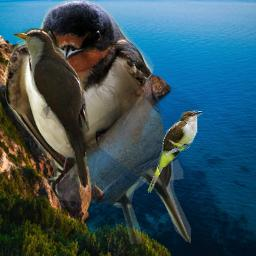Cuckoo: (12, 28, 93, 191), (147, 110, 203, 193)
Swallow: (5, 0, 191, 244)
